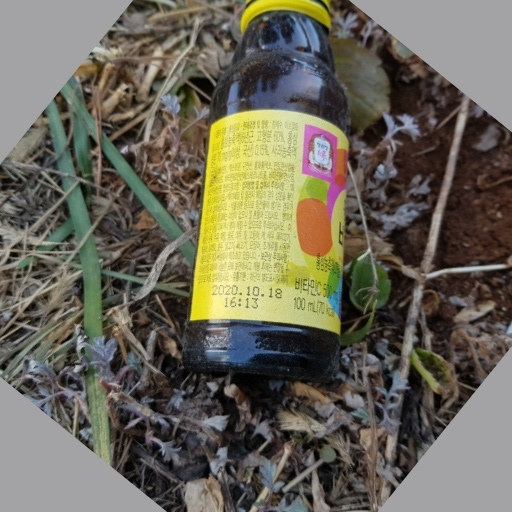Glass_3: (178, 1, 349, 383)
